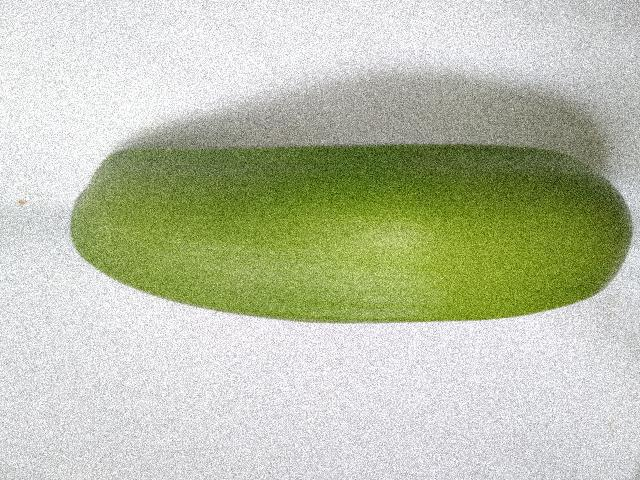freshunripe: (54, 124, 639, 346)
